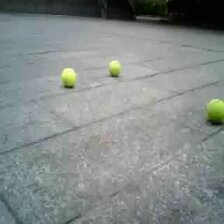tennis: (206, 99, 224, 123), (61, 68, 76, 86), (109, 60, 121, 76)
